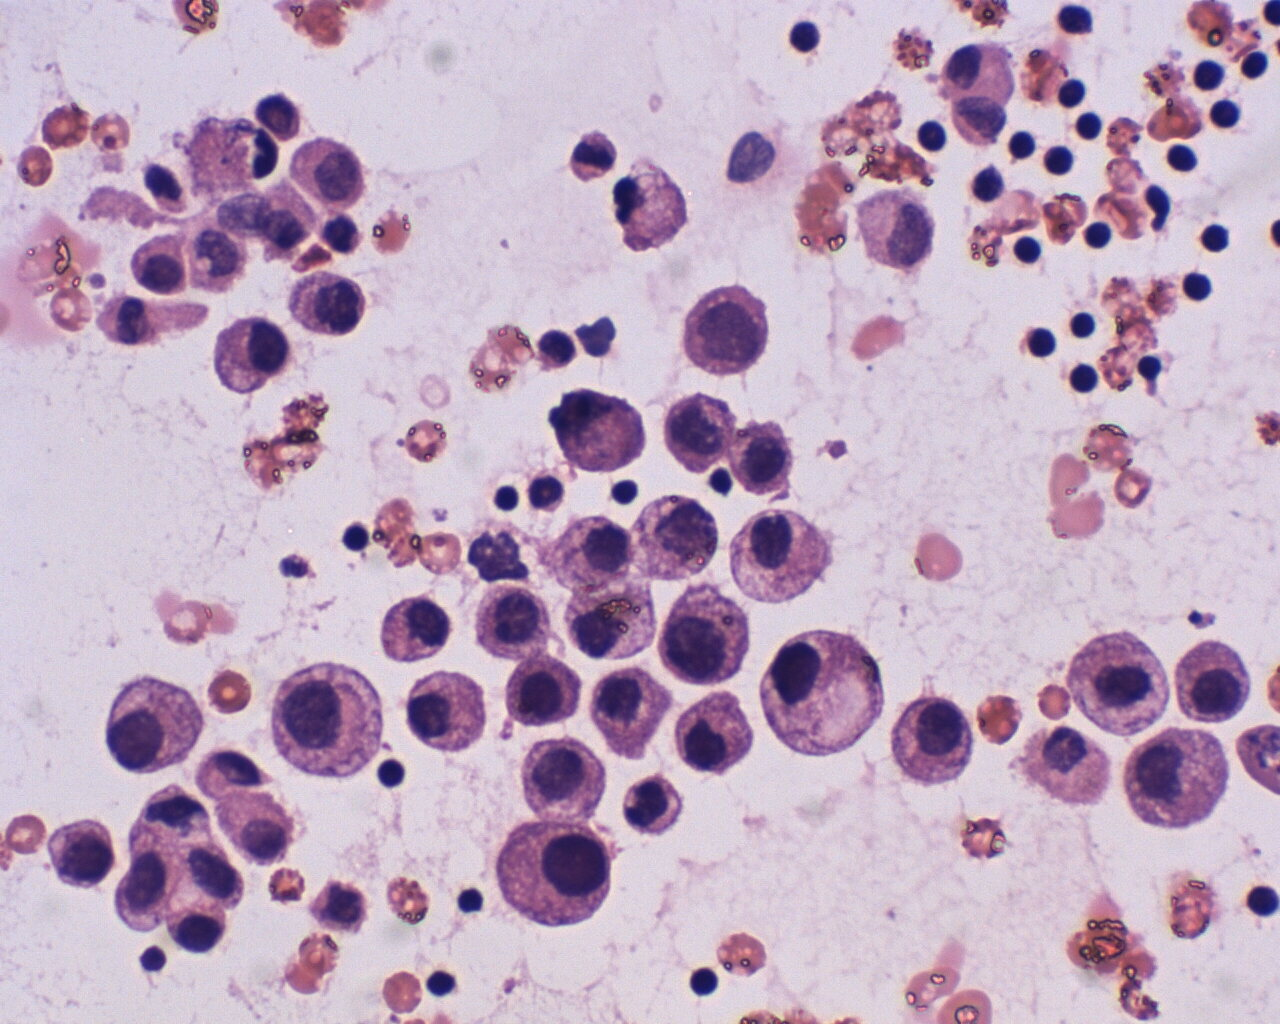ab: (264, 659, 385, 787), (653, 587, 755, 685), (678, 281, 779, 378), (585, 660, 675, 763), (632, 487, 726, 583), (401, 670, 494, 753), (671, 694, 757, 784), (658, 386, 738, 471), (474, 582, 555, 664), (504, 655, 586, 729), (38, 819, 122, 891), (730, 416, 798, 496)
histo: (765, 625, 888, 757)
lymph: (788, 9, 833, 65), (1180, 264, 1224, 308), (1162, 134, 1202, 181), (685, 960, 726, 1003), (1071, 214, 1115, 254), (1022, 325, 1055, 359)
meso: (486, 817, 613, 925), (886, 689, 979, 790), (1170, 629, 1254, 722), (287, 130, 367, 213), (939, 38, 1017, 103)
